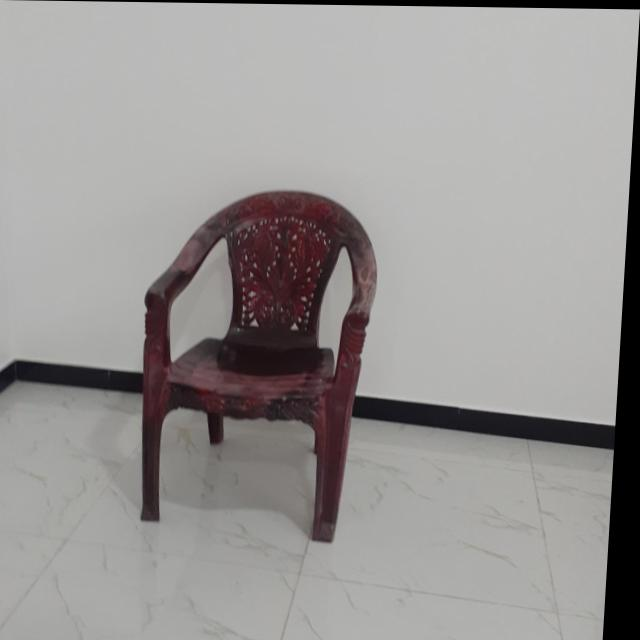Chair: (135, 186, 384, 543)
